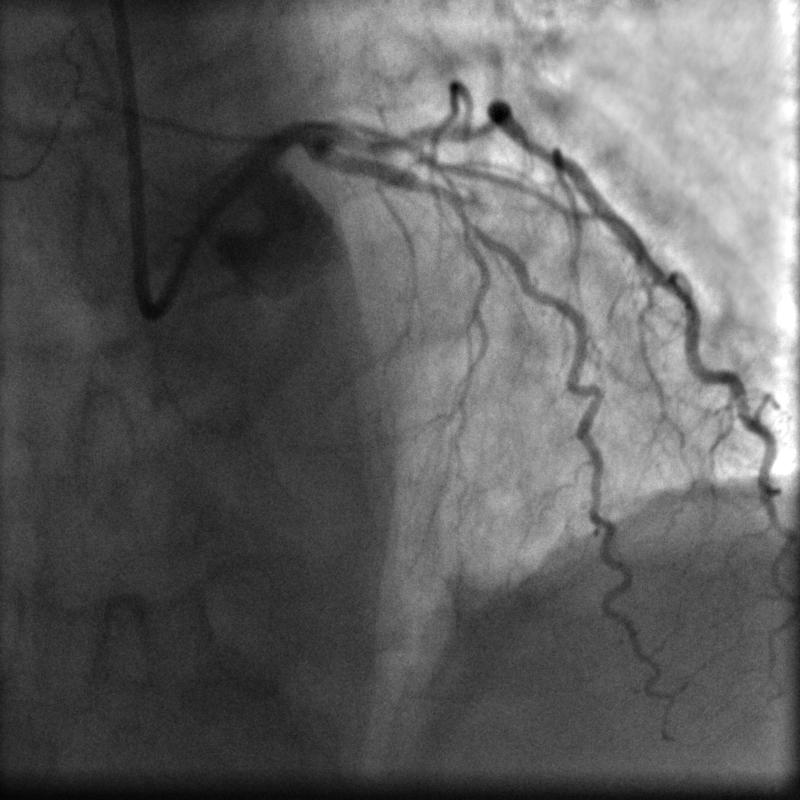Stenosis: (413, 165, 472, 215)
